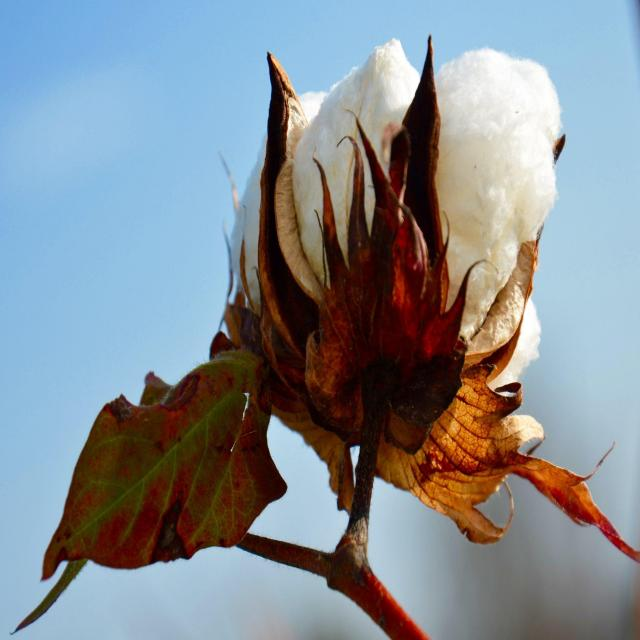Early_blight: (438, 49, 561, 336), (291, 34, 421, 275)
